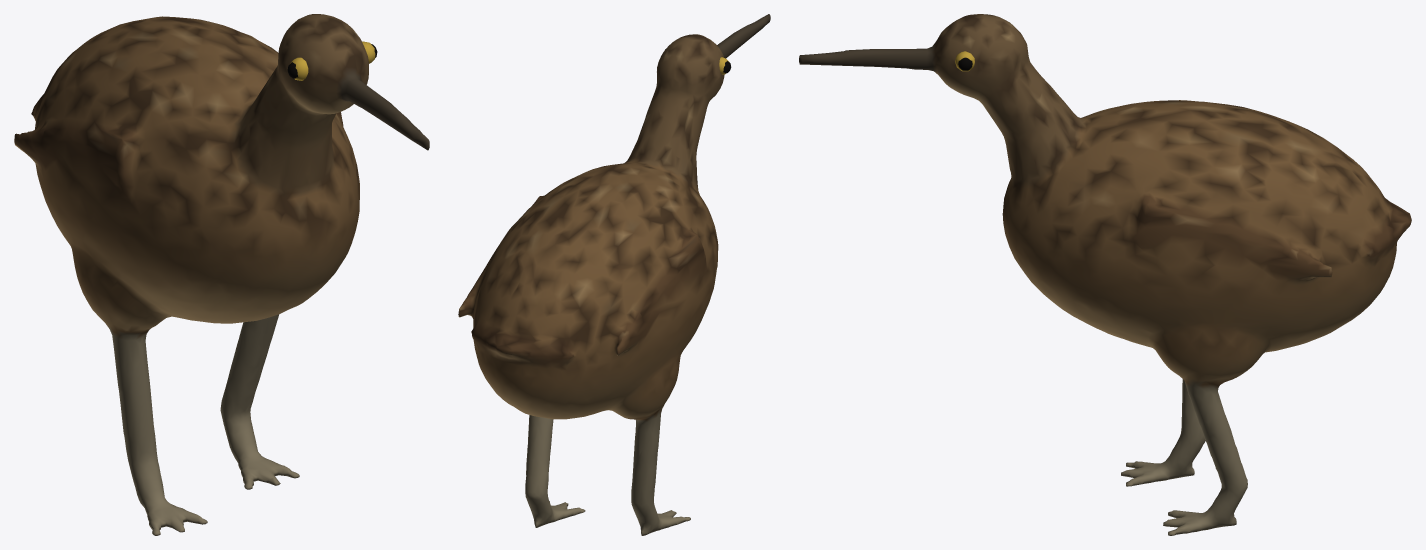
The model's file is LithornisCeletius.fbx.
The picture shows the model from 3 angles, left to right: view 1: azimuth 30°, elevation 25°; view 2: azimuth 150°, elevation 25°; view 3: azimuth 270°, elevation 25°; orthographic projection. The views are drawn at different scales.
Visible parts, largest first — view 1: LithornisCeletius; view 2: LithornisCeletius; view 3: LithornisCeletius.
Part boxes in pixels (left/top/right/bottom): LithornisCeletius: left=14, top=14, right=429, bottom=535; LithornisCeletius: left=458, top=14, right=770, bottom=535; LithornisCeletius: left=799, top=14, right=1411, bottom=535.
Size of the model in its own units: 0.3995 by 0.9173 by 1.05.
